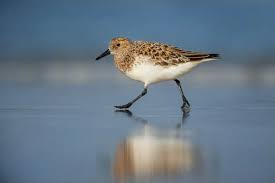Walking: (81, 23, 224, 128)
